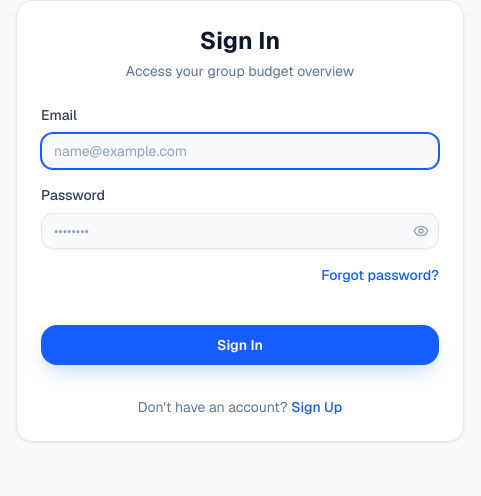
Scenario: LoginForm › resets to Sign In and shows an error when sign-in fails
Type "demo@example.com" into the field labelled "Email".
click(240, 151); type("demo@example.com")  # box left=41, top=133, right=439, bottom=169
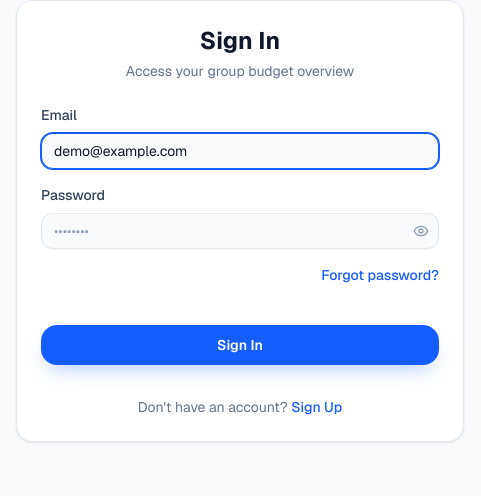
Type "hunter2" into the password field labelled "Password".
click(240, 231); type("hunter2")  # box left=41, top=213, right=439, bottom=249
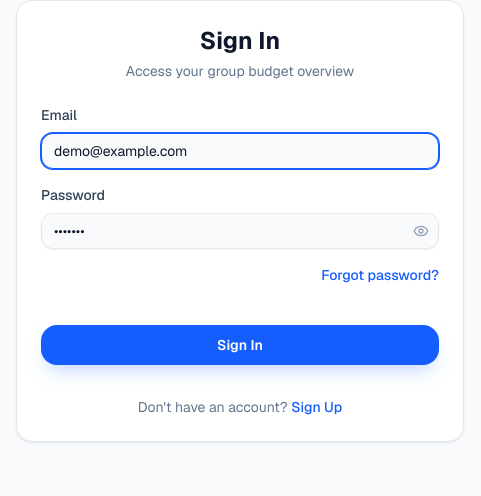
Click the button "Sign In".
click(240, 345)  # box left=41, top=325, right=439, bottom=365
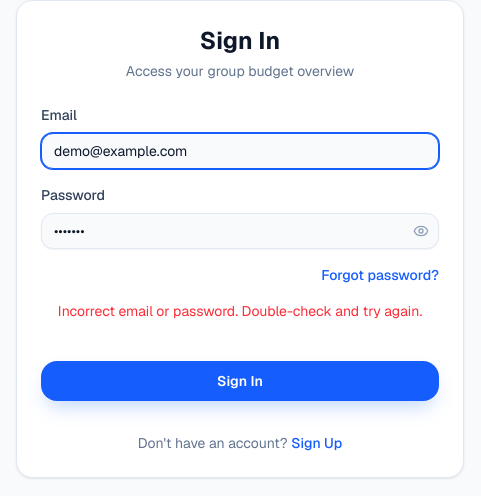
Expected: the button "Sign In" is enabled, left=41, top=361, right=439, bottom=401
Result: the message reads "Incorrect email or password. Double-check and try again." at left=58, top=302, right=422, bottom=320
